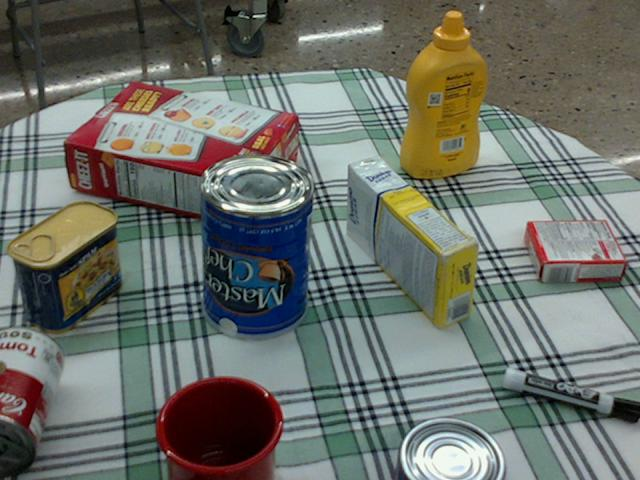cracker_box: (64, 82, 295, 225)
gelatin_box: (523, 220, 625, 282)
large_marker: (503, 367, 639, 422)
master_chef_can: (197, 153, 313, 339)
mug: (149, 375, 278, 479)
mustard_bottle: (399, 11, 486, 177)
potted_meat_can: (8, 200, 120, 332)
sugar_box: (345, 157, 478, 327)
tomato_soup_can: (0, 326, 63, 475)
tuna_fish_can: (393, 420, 505, 479)
